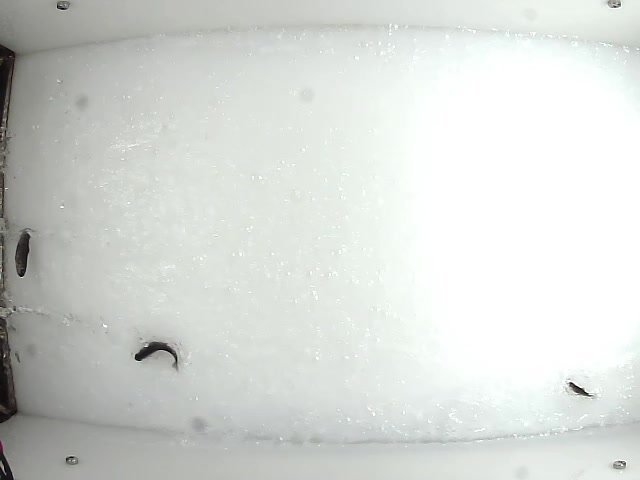fish: (133, 340, 181, 370), (11, 224, 35, 278), (567, 380, 595, 399)
